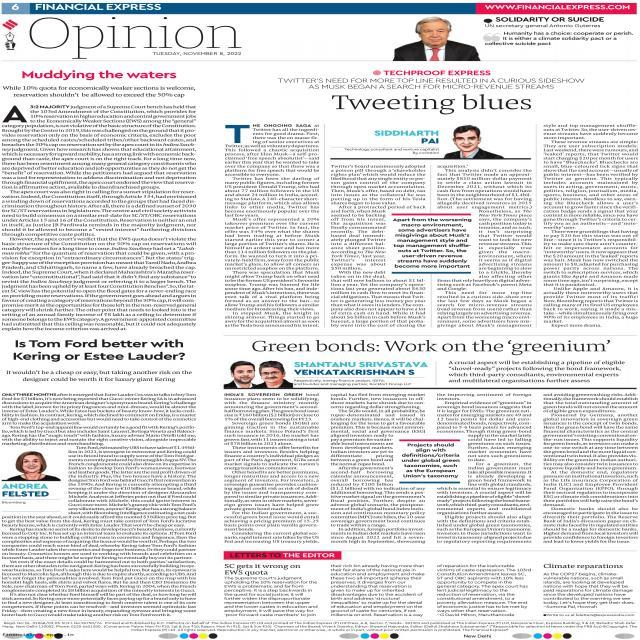Article: (209, 66, 640, 332), (207, 334, 639, 547), (0, 336, 203, 618), (1, 65, 202, 334), (210, 548, 640, 620)
Body: (0, 104, 199, 332), (223, 122, 322, 328), (0, 516, 198, 617), (222, 392, 320, 544), (542, 392, 640, 544), (0, 392, 198, 446), (542, 123, 640, 229), (542, 230, 640, 328), (67, 446, 197, 515), (329, 486, 427, 544), (436, 486, 534, 544), (435, 563, 532, 617), (330, 564, 426, 618), (329, 164, 427, 214), (436, 278, 533, 328), (329, 279, 426, 328), (436, 166, 534, 210), (330, 393, 428, 434), (436, 392, 533, 433), (224, 576, 318, 618), (478, 210, 534, 278), (330, 214, 388, 279), (542, 572, 636, 610), (330, 434, 396, 486), (467, 434, 533, 486)
Date: (150, 52, 244, 56)
Heading: (251, 339, 614, 356), (329, 94, 533, 115), (11, 338, 187, 362), (21, 69, 182, 81), (224, 563, 302, 576), (542, 562, 624, 570)
Highlights: (482, 15, 635, 47), (446, 360, 628, 384), (278, 76, 586, 90), (392, 218, 474, 268), (5, 369, 193, 383), (2, 85, 197, 98), (400, 442, 462, 480)
Image: (392, 15, 480, 60), (223, 358, 293, 389), (444, 124, 504, 159), (0, 450, 60, 480)
Name: (28, 15, 244, 50), (33, 3, 164, 11)
